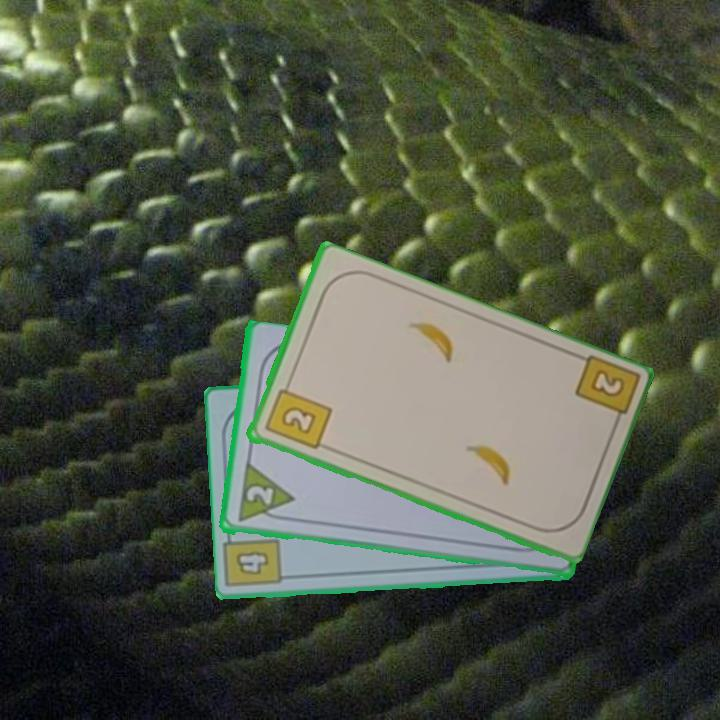2b: (261, 377, 334, 453), (570, 353, 639, 433)
2p: (242, 482, 276, 508)
4b: (232, 547, 271, 579)
